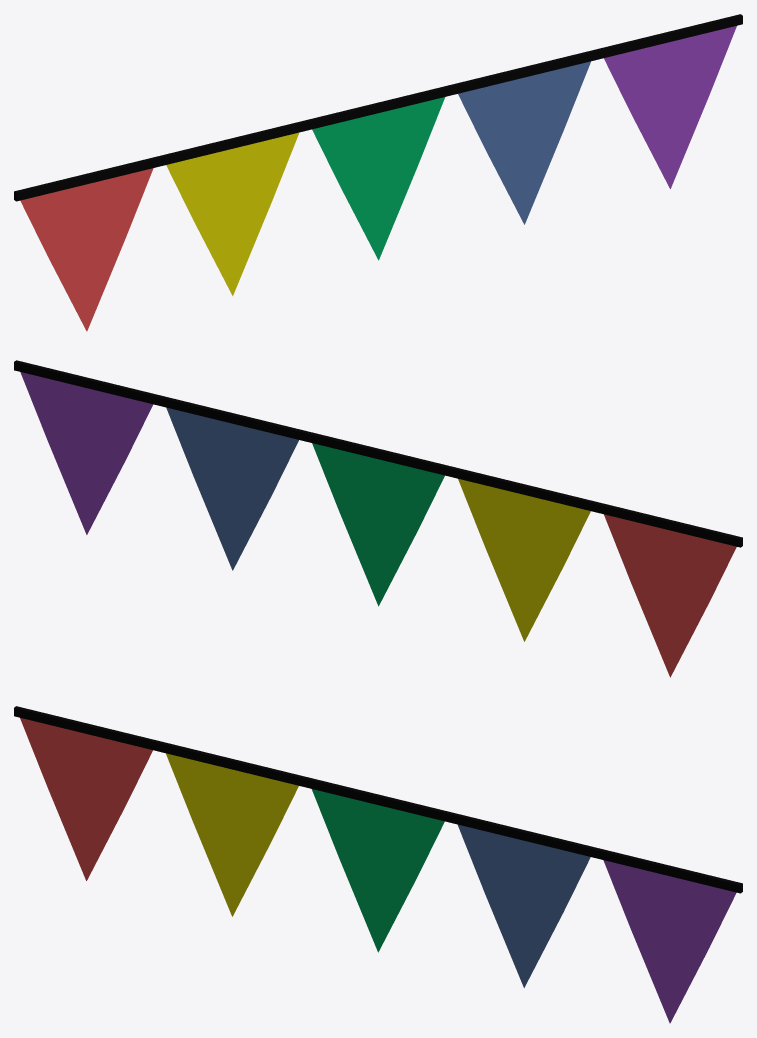
File: midFlags_geo.fbx
The picture shows the model from 3 angles, top to bottom: view 1: azimuth 30°, elevation 25°; view 2: azimuth 150°, elevation 25°; view 3: azimuth 330°, elevation 25°; orthographic projection.
Visible parts, largest first — view 1: flag02_geo, flag05_geo, flag03_geo, flag01_geo, flag04_geo, string_geo; view 2: flag04_geo, flag01_geo, flag03_geo, flag05_geo, flag02_geo, string_geo; view 3: flag04_geo, flag01_geo, flag03_geo, flag05_geo, flag02_geo, string_geo.
Boxes of the visible parts, x1,y1,x2,y2 form: flag02_geo: (166,132,299,295); flag05_geo: (604,26,736,188); flag03_geo: (312,97,445,260); flag01_geo: (20,168,153,331); flag04_geo: (458,61,590,224); string_geo: (14,14,742,201); flag04_geo: (166,407,298,570); flag01_geo: (604,514,736,677); flag03_geo: (312,443,444,606); flag05_geo: (20,372,153,534); flag02_geo: (458,479,590,641); string_geo: (14,360,742,547); flag04_geo: (457,824,590,987); flag01_geo: (20,718,152,880); flag03_geo: (311,789,444,952); flag05_geo: (603,860,736,1023); flag02_geo: (166,753,298,916); string_geo: (14,706,742,893).
Size of the model in its own units: 675 by 139 by 3.75.
